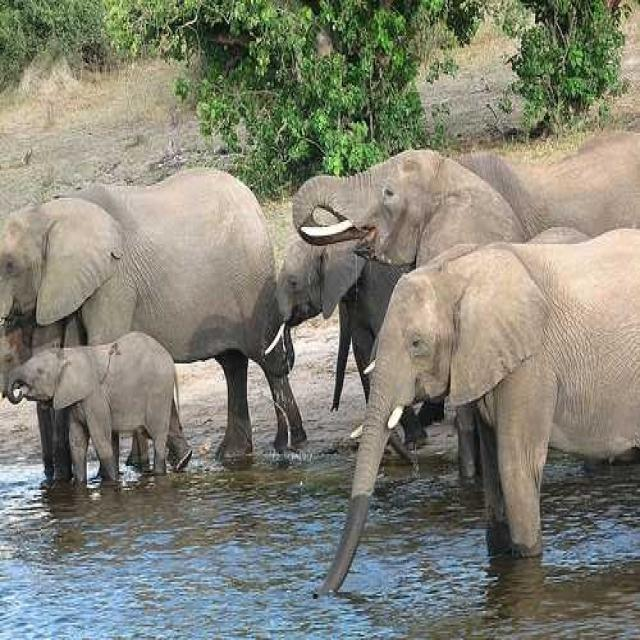Elephant: (311, 224, 639, 599), (0, 165, 306, 472), (5, 329, 192, 486)
